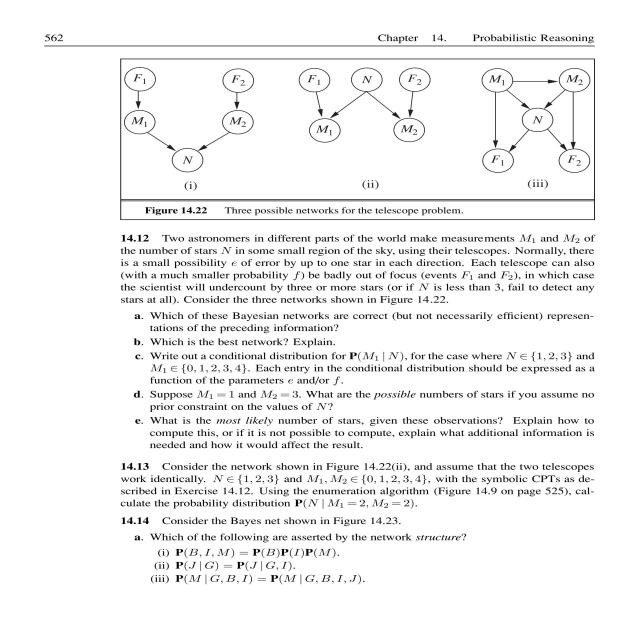diagram: (94, 55, 640, 222)
